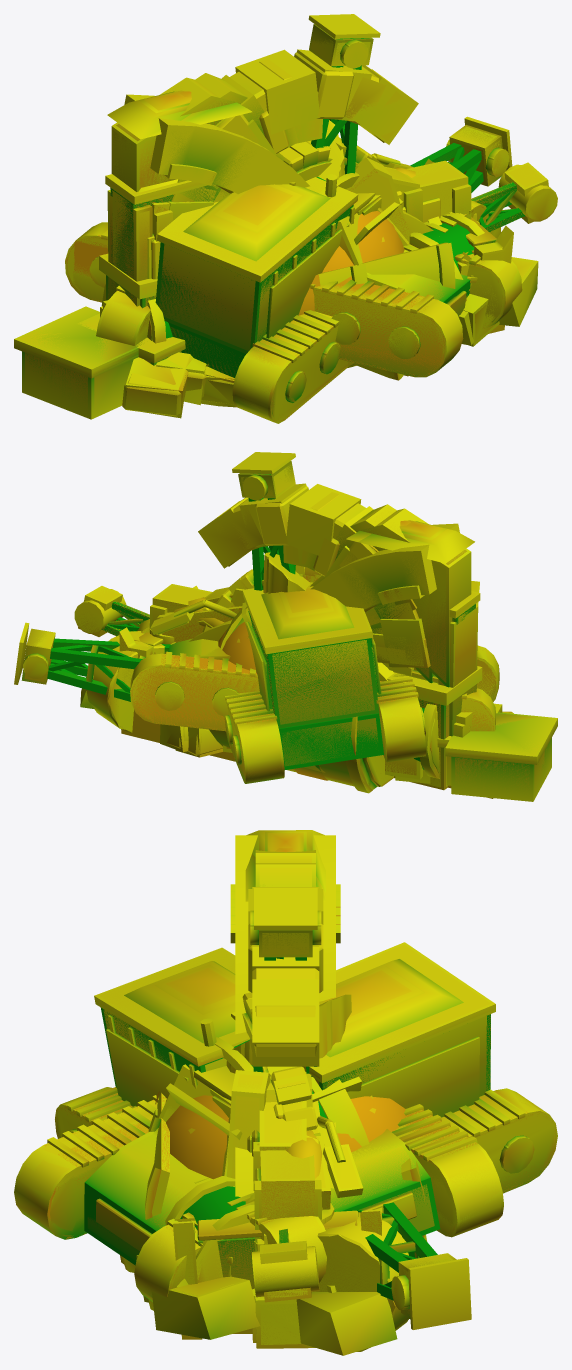
The model's file is debris.glb.
3 renders of one model, top to bottom at view 1: azimuth 30°, elevation 25°; view 2: azimuth 150°, elevation 25°; view 3: azimuth 270°, elevation 25°, orthographic. The views are drawn at different scales.
Visible parts, largest first — view 1: hulk0_l0_wallLight, arch0_l1_wall, hulk1_l0_wallDark, hulk0_l0_wallDark, hulk0_l1_wallLight, hoop0_l0_wall, hulk0_l0_snow, hulk1_l2_wallDark, arch0_l0_wall, column0_l1_wallLight, hulk1_l1_wallDark, column0_l0_wallDark (+57 smaller); view 2: arch0_l1_wall, hulk1_l0_wallLight, hulk1_l1_wallLight, hulk0_l0_wallDark, arch0_l0_wall, hulk0_l2_wallDark, hulk1_l0_wallDark, hoop0_l0_wall, arch0_l1_wallLight, hulk1_l1_wall, column0_l1_wallLight, column0_l1_wallDark (+51 smaller); view 3: hulk1_l0_wallDark, hulk1_l1_wallDark, hulk1_l0_wallLight, column2_l0_wall, hulk1_l0_accentDark, hulk0_l0_wallDark, stairs0_l1_wall, hulk1_l0_snow, hulk0_l1_wallLight, hulk1_l1_wall, arch0_l1_wall, tank1_l0_wallLight (+57 smaller).
Boxes of the visible parts, x1,y1,x2,y2 form: hulk0_l0_wallLight: (159, 178, 356, 351); arch0_l1_wall: (111, 49, 418, 201); hulk1_l0_wallDark: (67, 223, 516, 374); hulk0_l0_wallDark: (98, 201, 487, 420); hulk0_l1_wallLight: (155, 177, 358, 353); hoop0_l0_wall: (124, 94, 309, 194); hulk0_l0_snow: (183, 184, 330, 261); hulk1_l2_wallDark: (65, 235, 504, 377); arch0_l0_wall: (113, 52, 401, 202); column0_l1_wallLight: (14, 303, 150, 378); hulk1_l1_wallDark: (65, 222, 522, 377); column0_l0_wallDark: (25, 352, 133, 414); arch0_l1_wall: (160, 484, 471, 752); hulk1_l0_wallLight: (243, 594, 374, 724); hulk1_l1_wallLight: (242, 588, 379, 728); hulk0_l0_wallDark: (130, 619, 498, 731); arch0_l0_wall: (167, 486, 466, 748); hulk0_l2_wallDark: (130, 630, 497, 731); hulk1_l0_wallDark: (227, 638, 423, 782); hoop0_l0_wall: (310, 523, 459, 609); arch0_l1_wallLight: (239, 483, 482, 705); hulk1_l1_wall: (279, 713, 383, 769); column0_l1_wallLight: (427, 712, 557, 777); column0_l1_wallDark: (451, 738, 551, 801); hulk1_l0_wallDark: (16, 1089, 555, 1301); hulk1_l1_wallDark: (14, 1088, 557, 1300); hulk1_l0_wallLight: (195, 944, 493, 1099); column2_l0_wall: (180, 994, 408, 1351); hulk1_l0_accentDark: (96, 1036, 479, 1251); hulk0_l0_wallDark: (56, 1015, 501, 1282); stairs0_l1_wall: (173, 1207, 397, 1355); hulk1_l0_snow: (324, 959, 463, 1057); hulk0_l1_wallLight: (94, 947, 249, 1087); hulk1_l1_wall: (84, 1064, 212, 1265); arch0_l1_wall: (248, 850, 323, 1066); tank1_l0_wallLight: (166, 1095, 405, 1175).
Size of the model in its own units: 11.2 by 6.09 by 8.12.
